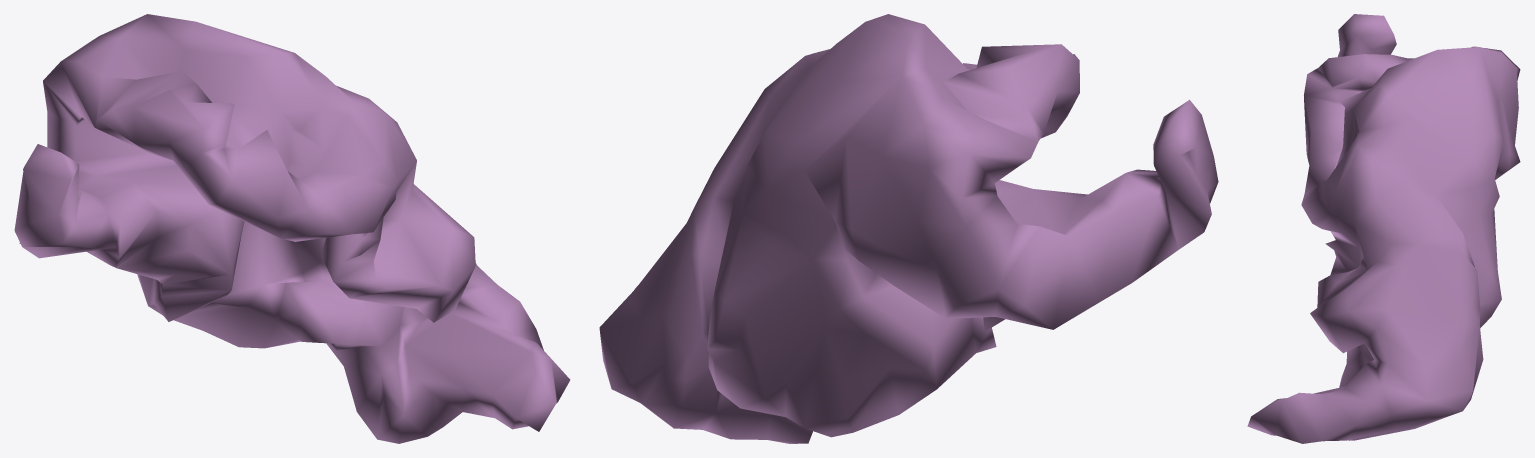
3 renders of one model, left to right at view 1: azimuth 30°, elevation 25°; view 2: azimuth 150°, elevation 25°; view 3: azimuth 270°, elevation 25°, orthographic. The views are drawn at different scales.
Parts seen in each view (by area): view 1: 左侧枕下回与枕下沟; view 2: 左侧枕下回与枕下沟; view 3: 左侧枕下回与枕下沟.
Part boxes in pixels (<box>): 左侧枕下回与枕下沟: <box>14,14,570,443</box>; 左侧枕下回与枕下沟: <box>599,14,1218,443</box>; 左侧枕下回与枕下沟: <box>1247,14,1520,443</box>.
Bounding box in the file's own units: 0.0587 × 0.0465 × 0.0349.
